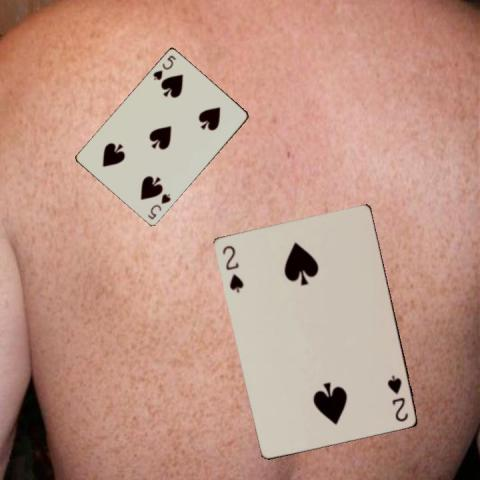2s: (220, 243, 246, 294), (385, 372, 410, 423)
5s: (145, 191, 172, 221), (150, 53, 177, 82)
